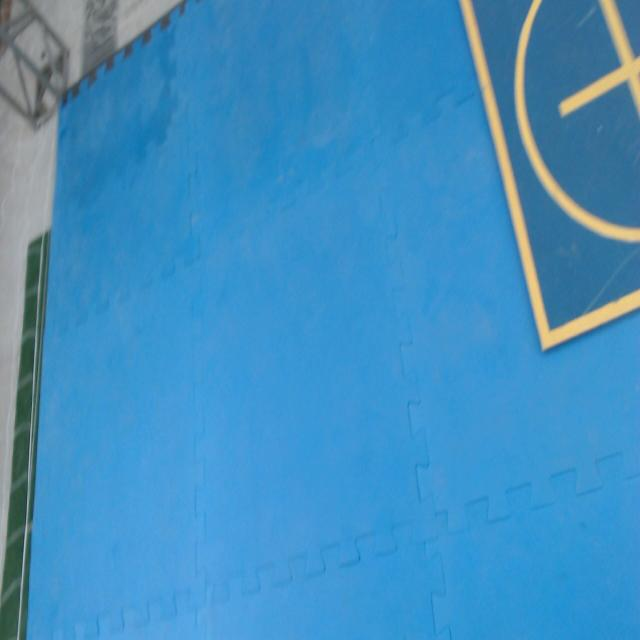base_pouso: (459, 0, 640, 354)
